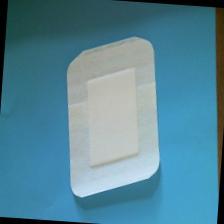Dressing: (57, 29, 173, 208)
